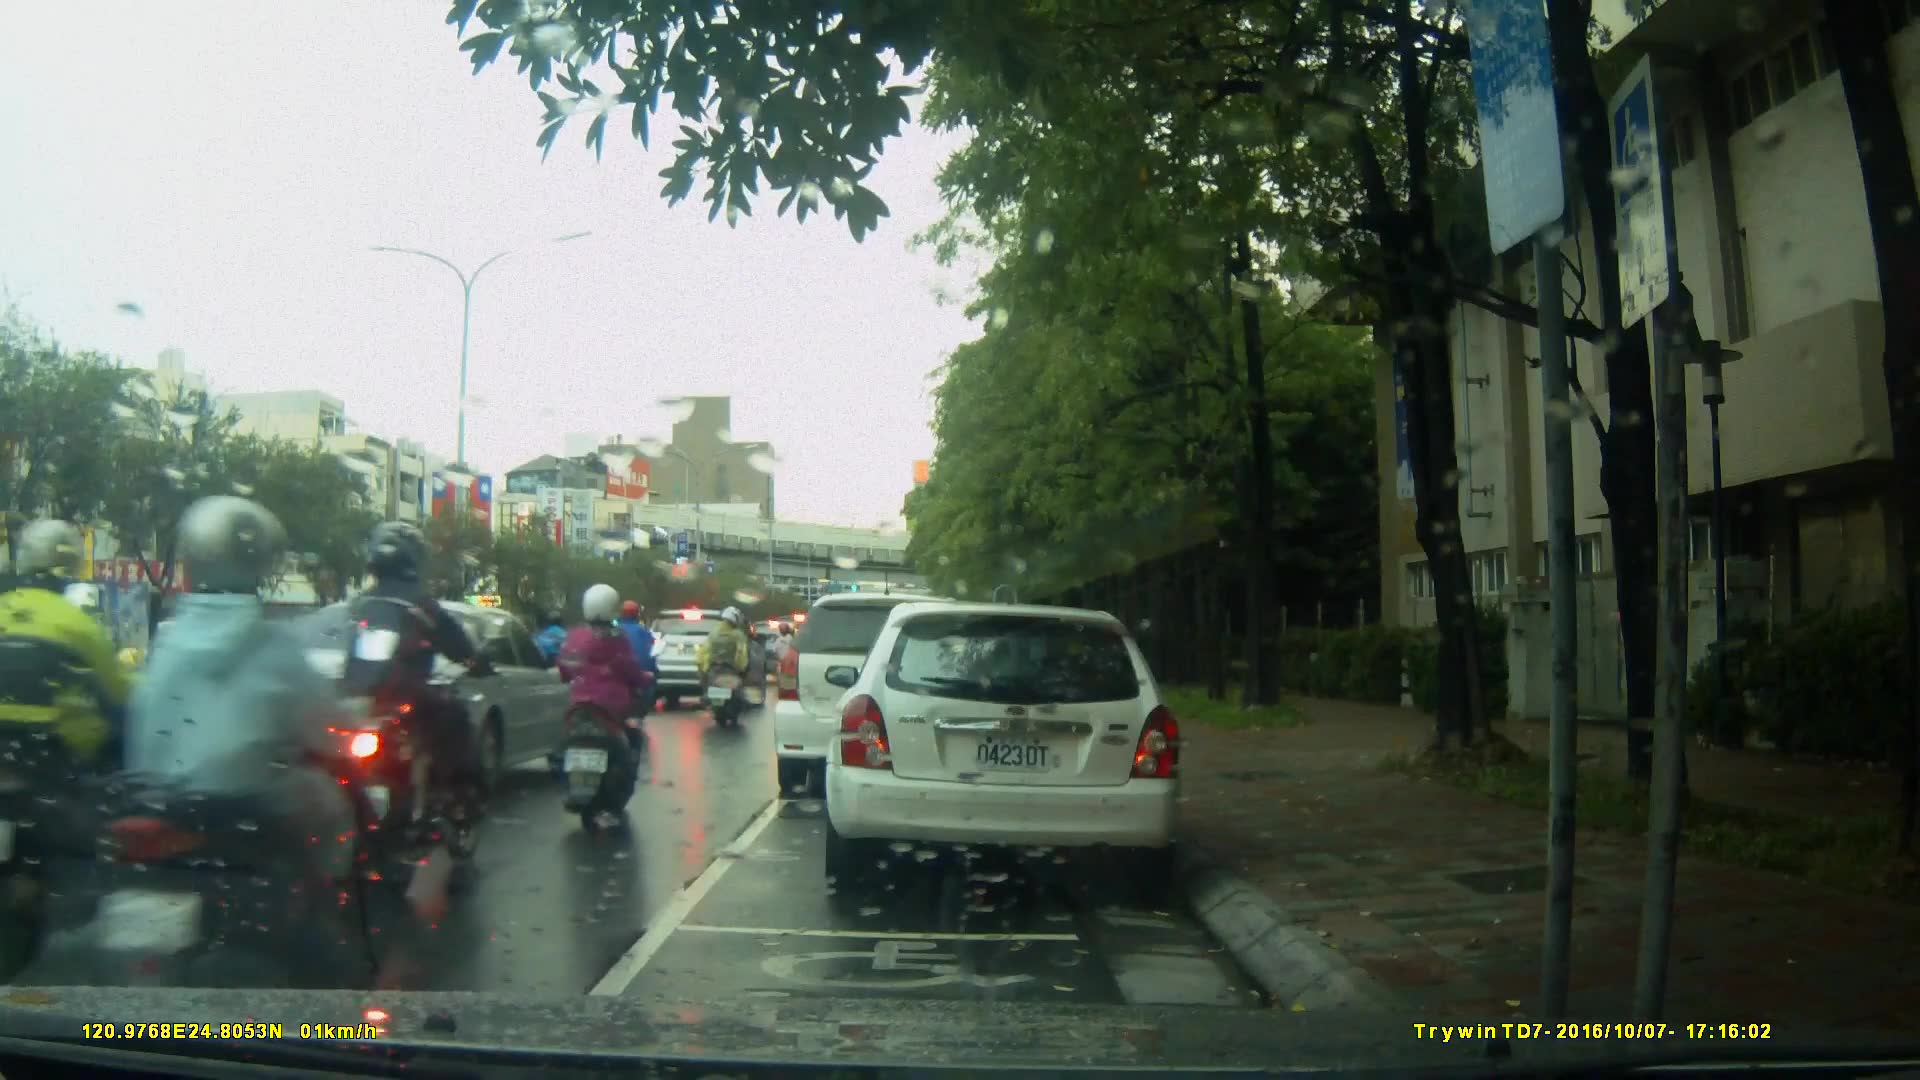rider: (113, 492, 395, 1018), (1, 515, 211, 975), (316, 520, 488, 901), (549, 588, 648, 833), (605, 600, 663, 719), (702, 607, 752, 733), (540, 605, 585, 712), (772, 623, 806, 696)
vehicle: (822, 604, 1188, 883), (240, 596, 593, 807), (774, 595, 995, 802), (637, 611, 769, 707)
